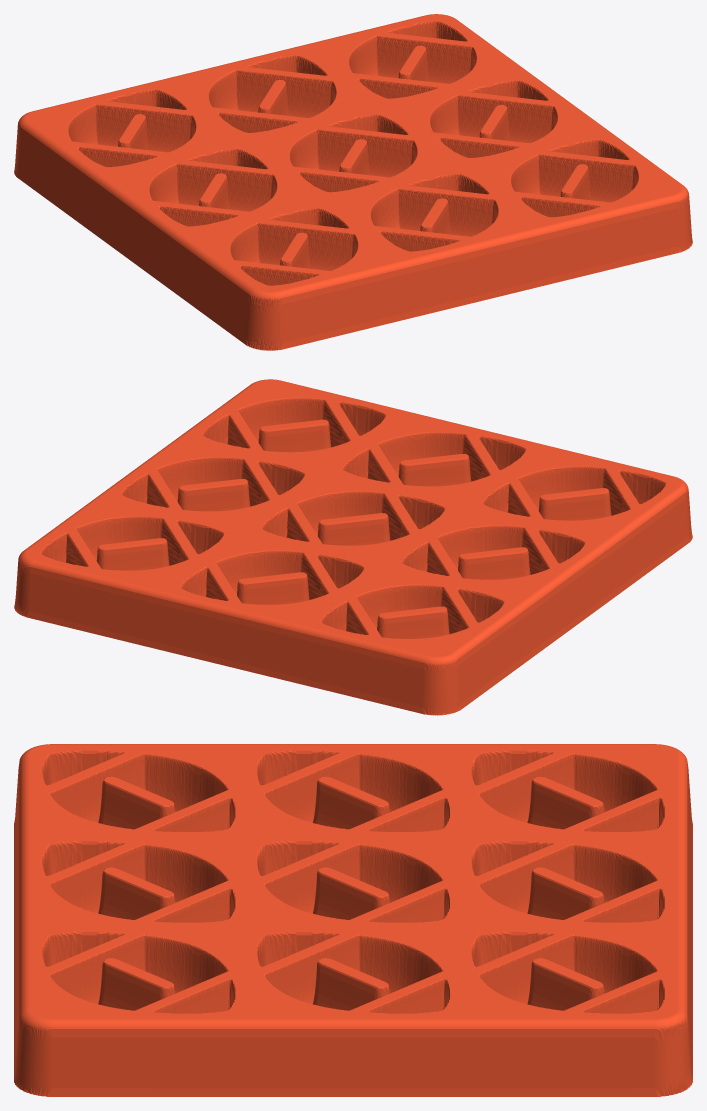
The model's file is mold.glb.
3 renders of one model, top to bottom at view 1: azimuth 30°, elevation 25°; view 2: azimuth 150°, elevation 25°; view 3: azimuth 270°, elevation 25°, orthographic. The views are drawn at different scales.
Visible parts, largest first — view 1: geometry_0; view 2: geometry_0; view 3: geometry_0.
Boxes of the visible parts, x1,y1,x2,y2 form: geometry_0: [14, 14, 692, 350]; geometry_0: [14, 379, 692, 715]; geometry_0: [14, 744, 692, 1096].
Size of the model in its own units: 0.1595 by 0.0185 by 0.1595.
